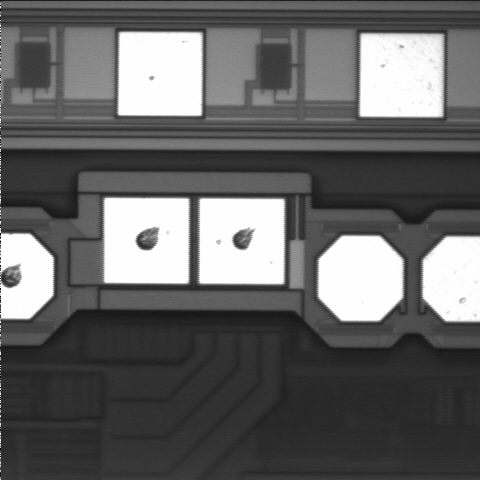pad: (104, 198, 189, 283), (200, 199, 284, 284), (319, 236, 403, 321), (118, 32, 202, 116), (360, 34, 443, 117)
